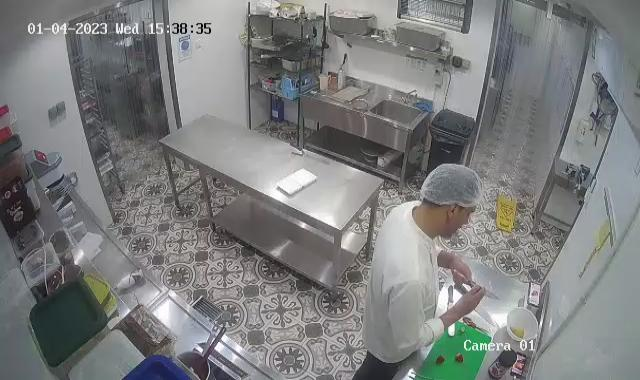hairnet: (419, 162, 482, 210)
